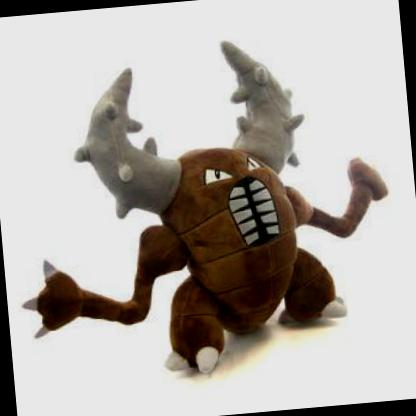Pinsir: (33, 22, 415, 415)
